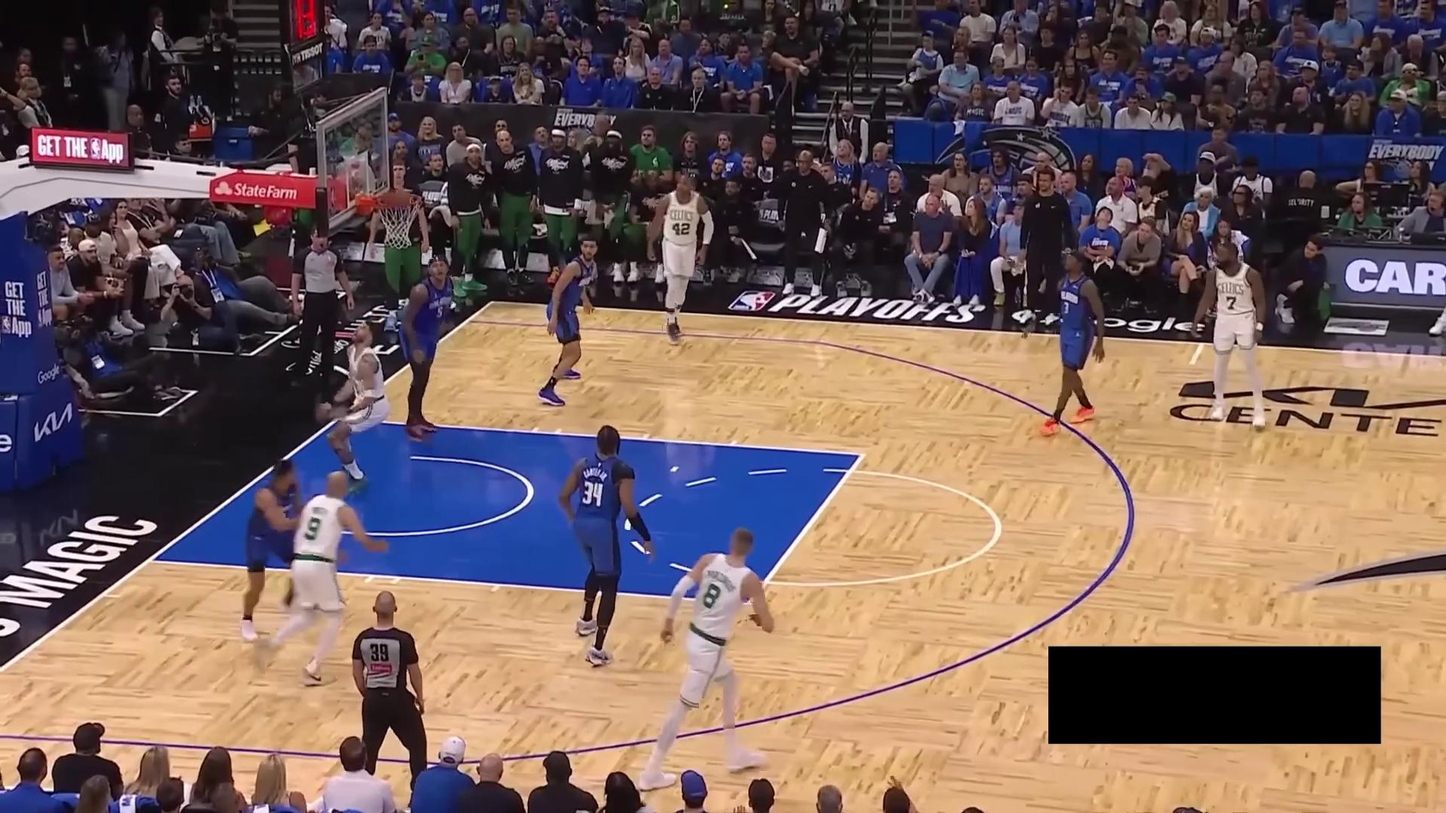ball: (382, 187, 411, 211)
number: (579, 477, 605, 510), (701, 579, 722, 612), (304, 516, 322, 541), (671, 222, 692, 236), (1226, 295, 1237, 310), (436, 305, 445, 319)
player: (630, 520, 778, 791), (265, 469, 396, 689), (558, 420, 653, 674), (1189, 232, 1272, 434), (233, 457, 318, 649), (1037, 249, 1107, 442), (391, 250, 459, 445), (530, 238, 606, 409), (646, 170, 716, 348), (325, 318, 391, 492)
referee: (343, 588, 433, 793), (286, 223, 352, 393)
rim: (373, 195, 423, 211)
